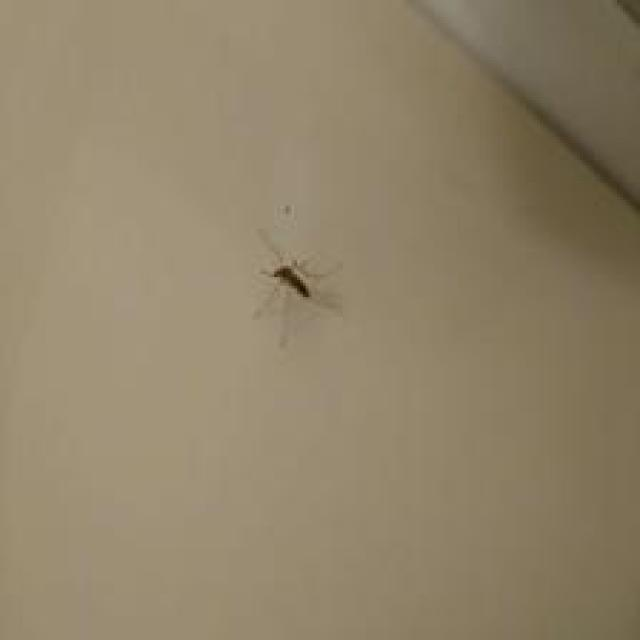Culex: (250, 203, 344, 348)
